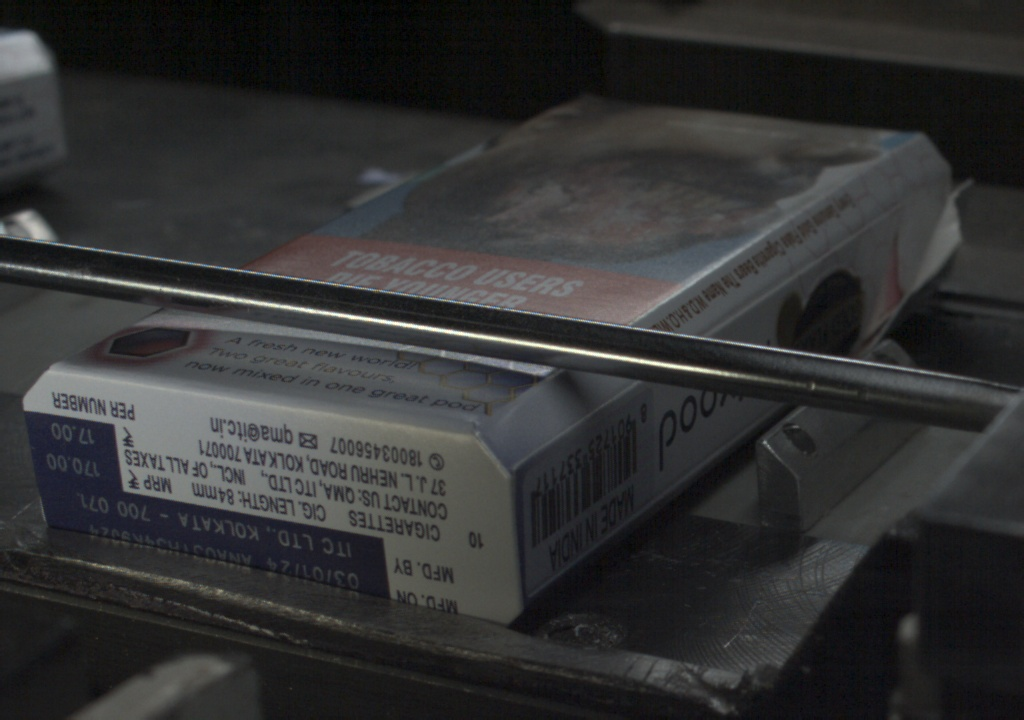g_bottom: (23, 371, 506, 630)
g_label: (35, 484, 386, 595)
g_lmiter: (704, 267, 805, 336), (806, 195, 898, 262), (504, 423, 574, 477), (574, 377, 636, 423)
ng_miter: (903, 181, 983, 281)
price: (33, 420, 118, 487)
